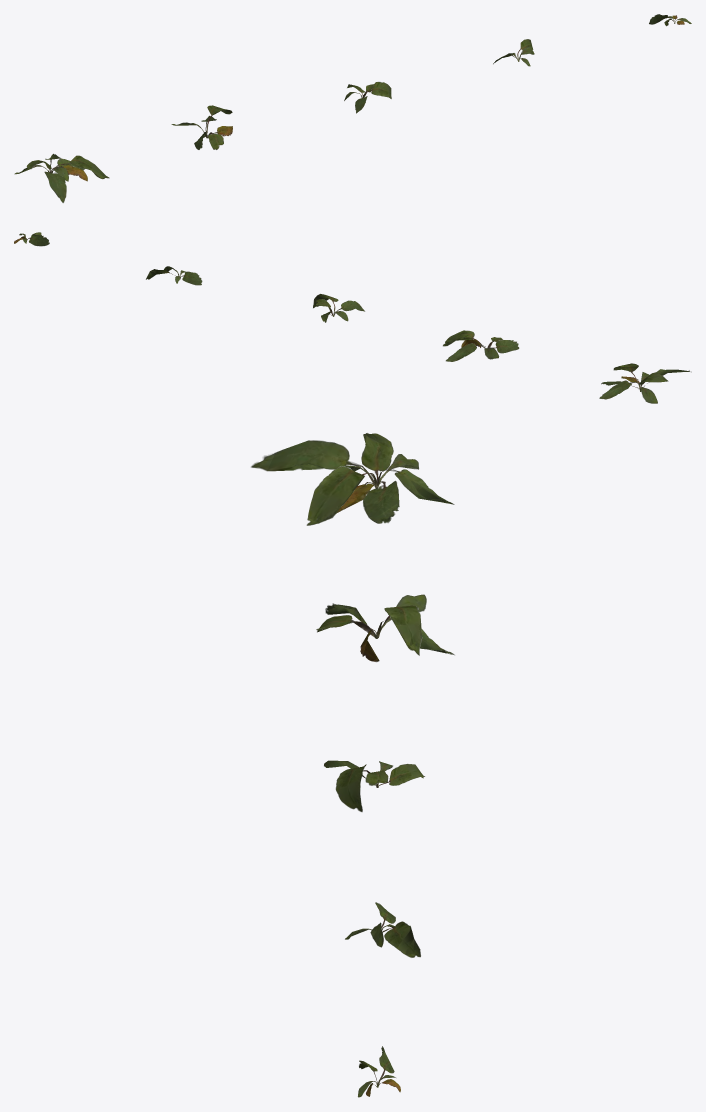
The model's file is distant.glb.
3 renders of one model, top to bottom at view 1: azimuth 30°, elevation 25°; view 2: azimuth 150°, elevation 25°; view 3: azimuth 270°, elevation 25°, orthographic. The views are drawn at different scales.
Parts seen in each view (by area): view 1: weed_plant_02_a_LOD0, weed_plant_02_c_LOD0; view 2: weed_plant_02_a_LOD0, weed_plant_02_c_LOD0; view 3: weed_plant_02_a_LOD0, weed_plant_02_c_LOD0.
Boxes of the visible parts, x1=… form: weed_plant_02_a_LOD0: x1=14, y1=14, x2=691, y2=202; weed_plant_02_c_LOD0: x1=344, y1=82, x2=391, y2=113; weed_plant_02_a_LOD0: x1=14, y1=232, x2=691, y2=403; weed_plant_02_c_LOD0: x1=313, y1=294, x2=364, y2=322; weed_plant_02_a_LOD0: x1=251, y1=433, x2=454, y2=1097; weed_plant_02_c_LOD0: x1=324, y1=760, x2=424, y2=811.
Size of the model in its own units: 2.13 by 0.075 by 0.2908.
1 material, 1 textured.
